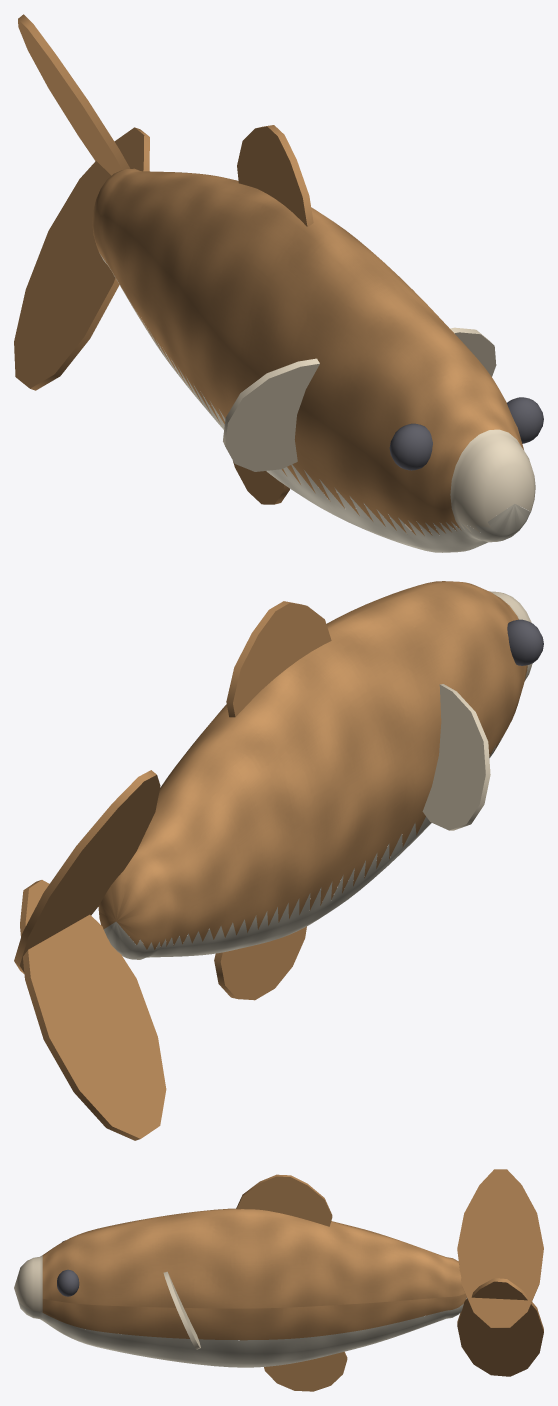
Rendered from pets-and-companions-hd-goldfish-c7f53616__28162.glb.
3 renders of one model, top to bottom at view 1: azimuth 30°, elevation 25°; view 2: azimuth 150°, elevation 25°; view 3: azimuth 270°, elevation 25°, orthographic. The views are drawn at different scales.
Visible parts, largest first — view 1: goldfish; view 2: goldfish; view 3: goldfish.
Boxes of the visible parts, x1,y1,x2,y2 form: goldfish: (14, 14, 543, 552); goldfish: (14, 581, 543, 1140); goldfish: (14, 1169, 543, 1391).
Size of the model in its own units: 0.0634 by 0.0878 by 0.1954.
4 materials, 2 textured.
